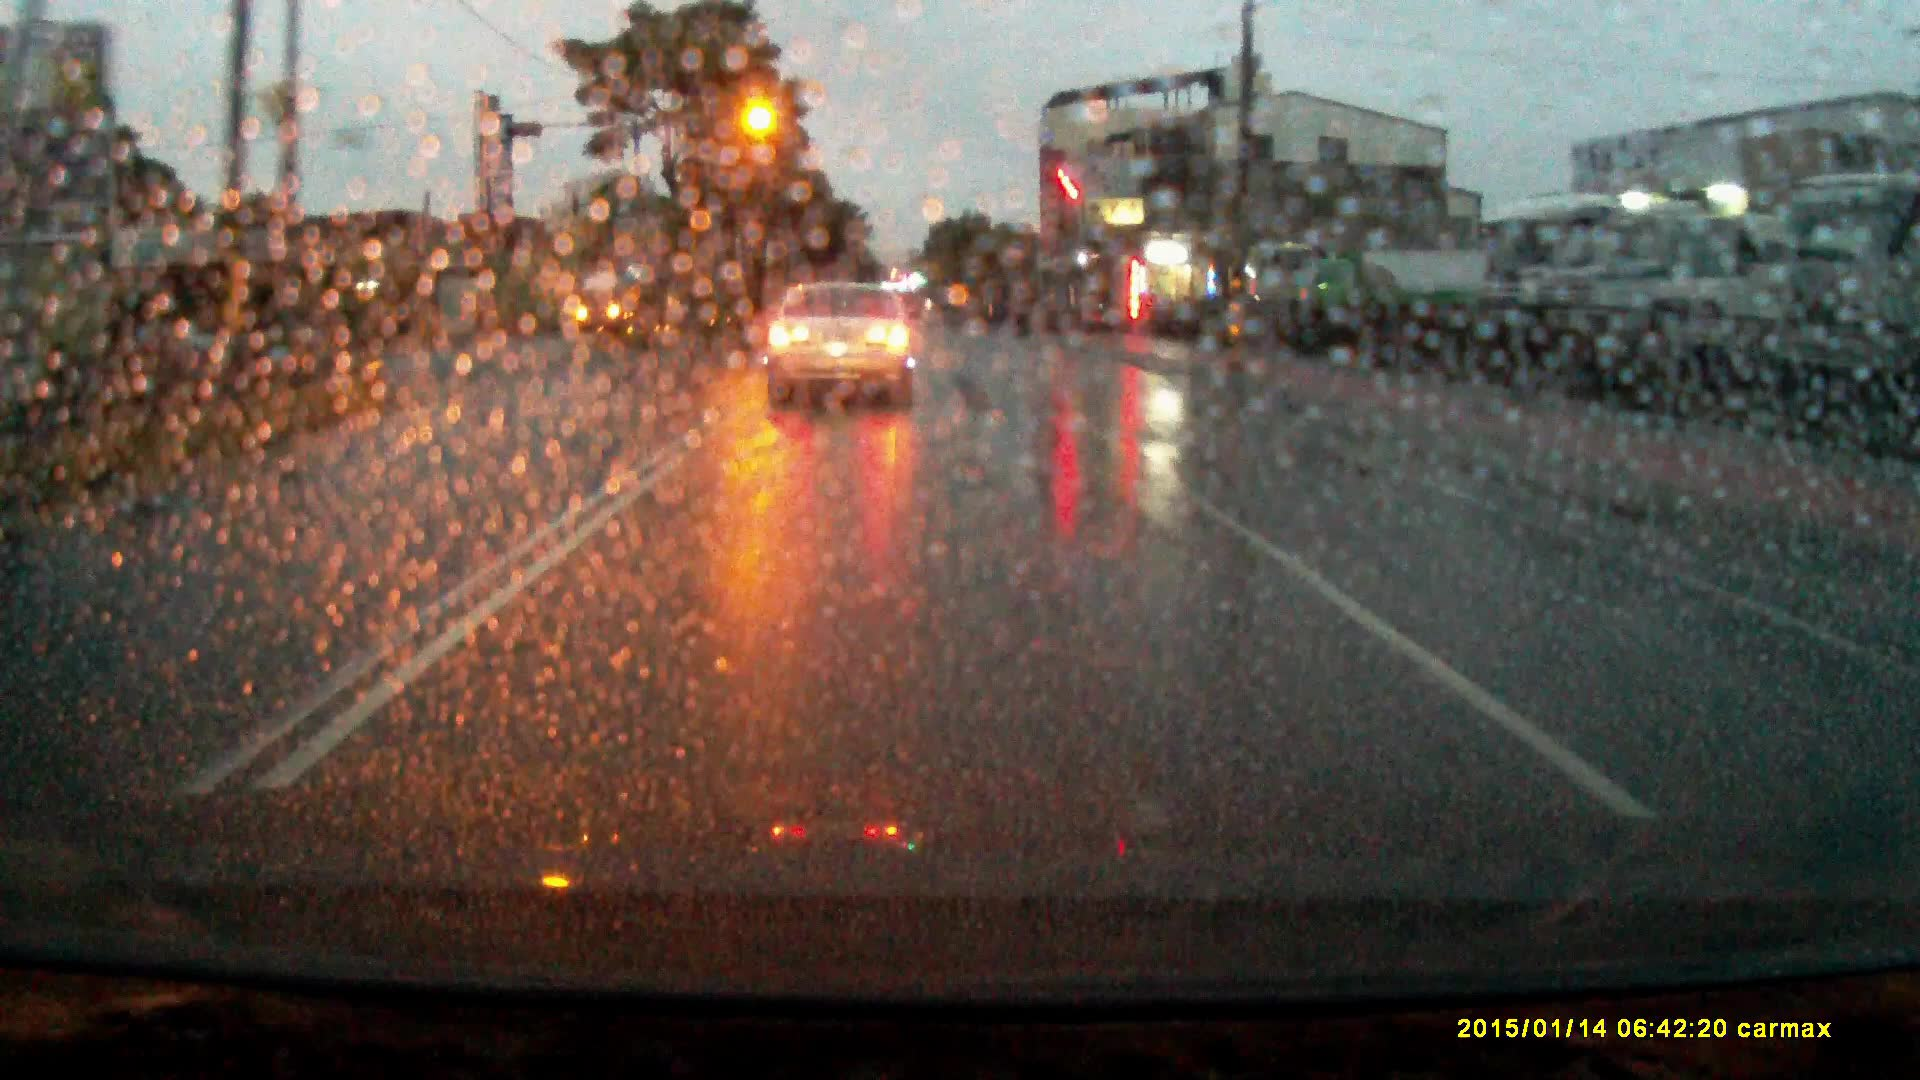vehicle: (1751, 175, 1920, 415), (1625, 216, 1793, 411), (1482, 196, 1614, 375), (765, 281, 922, 411), (1296, 251, 1484, 339), (1242, 241, 1323, 334), (578, 277, 636, 330)
